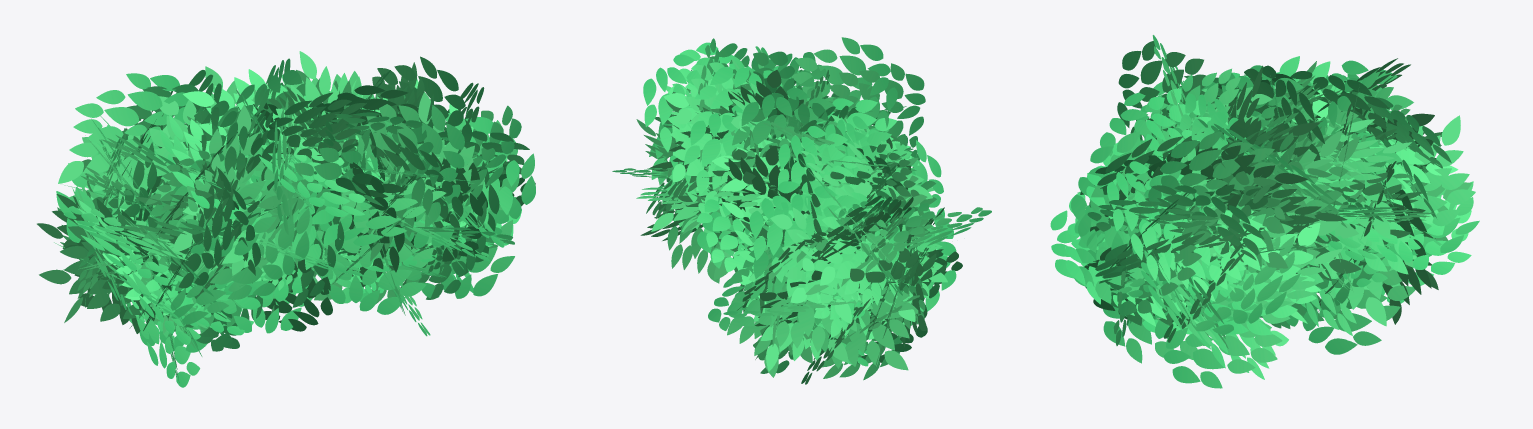
3 renders of one model, left to right at view 1: azimuth 30°, elevation 25°; view 2: azimuth 150°, elevation 25°; view 3: azimuth 270°, elevation 25°, orthographic. The views are drawn at different scales.
Visible parts, largest first — view 1: ojas.300; view 2: ojas.300; view 3: ojas.300.
Boxes of the visible parts, x1,y1,x2,y2 form: ojas.300: (37,51,535,387); ojas.300: (612,37,991,384); ojas.300: (1050,35,1479,388).
Bounding box in the file's own units: 595 × 439 × 520.
